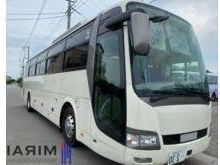bus: (24, 2, 214, 164)
